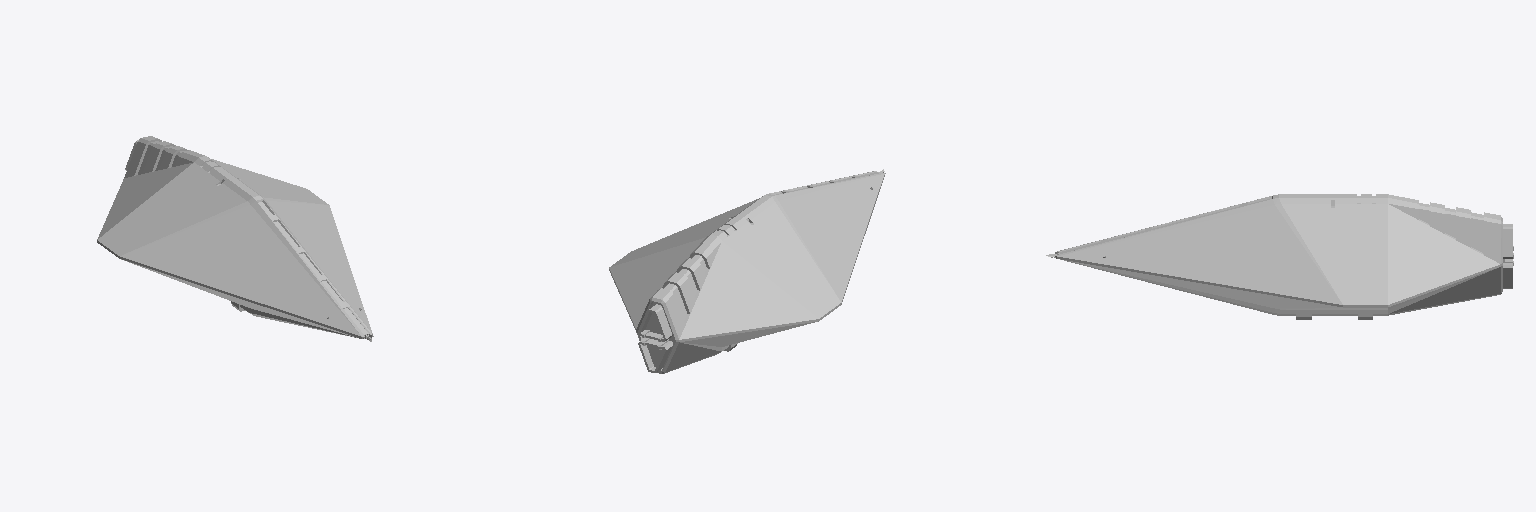
Rendered from oolite_python.obj.
3 renders of one model, left to right at view 1: azimuth 30°, elevation 25°; view 2: azimuth 150°, elevation 25°; view 3: azimuth 270°, elevation 25°, orthographic.
Parts seen in each view (by area): view 1: pyth.obj; view 2: pyth.obj; view 3: pyth.obj.
Boxes of the visible parts, <box> form: pyth.obj: <box>97,136,373,341</box>; pyth.obj: <box>609,169,885,373</box>; pyth.obj: <box>1046,194,1513,319</box>.
Bounding box in the file's own units: 73.94 × 40.31 × 143.